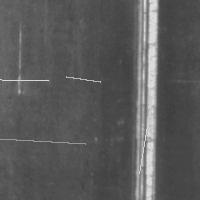scratches: (129, 1, 160, 199), (134, 91, 157, 178), (0, 134, 90, 149), (61, 72, 105, 87), (0, 74, 53, 85)
